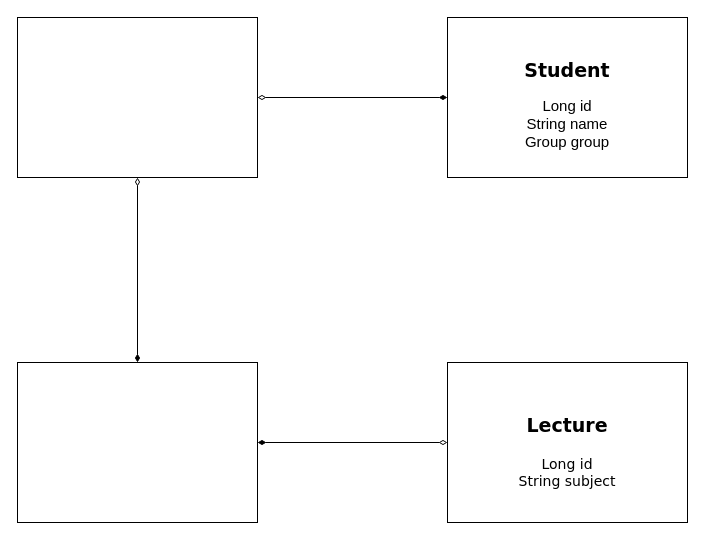
Some shapes in this 705 by 540 pixel diagram are drawn without their labels. The centre of each missing label's shape, as x and y in pixels:
Group Long id String name: the point at 137,97
Timetable Long id Group group Lecture lecture LocalDateTime startTime: the point at 137,442
